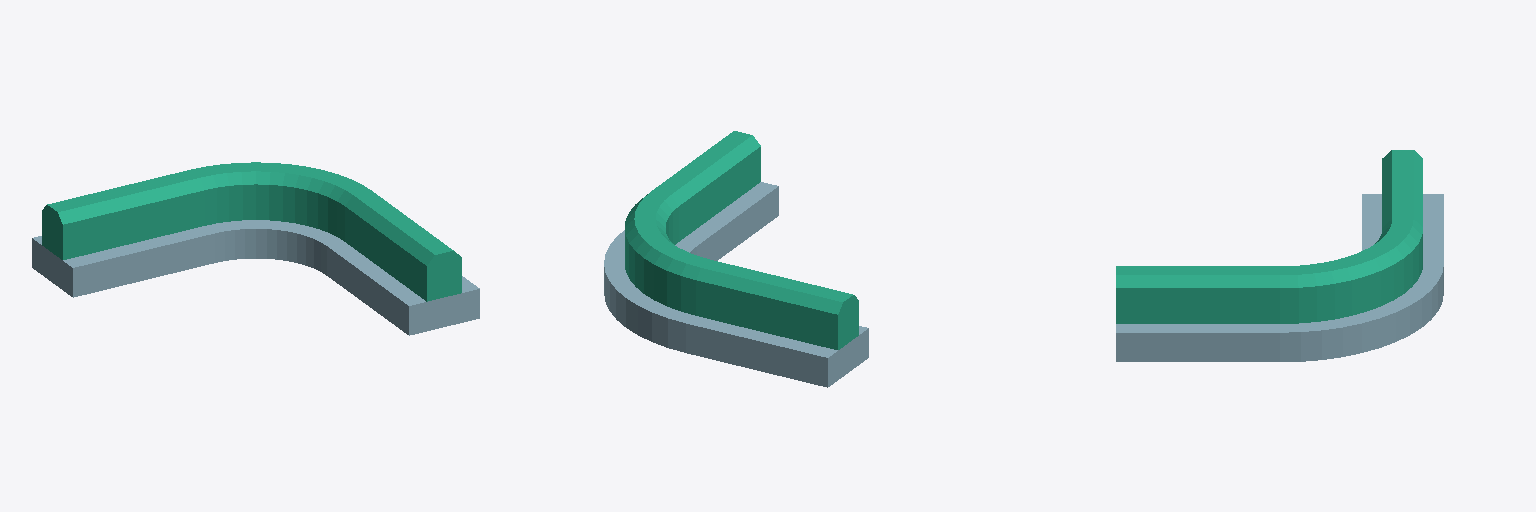
The model's file is hedgeCurved.obj.
3 views of the same model, side by side, from view 1: azimuth 30°, elevation 25°; view 2: azimuth 150°, elevation 25°; view 3: azimuth 270°, elevation 25° (orthographic).
Parts seen in each view (by area): view 1: hedgeCurved; view 2: hedgeCurved; view 3: hedgeCurved.
Part boxes in pixels (bbox=[...]): hedgeCurved: bbox=[32, 162, 479, 335]; hedgeCurved: bbox=[604, 131, 868, 387]; hedgeCurved: bbox=[1116, 150, 1443, 361].
Bounding box in the file's own units: 1 × 0.25 × 1.